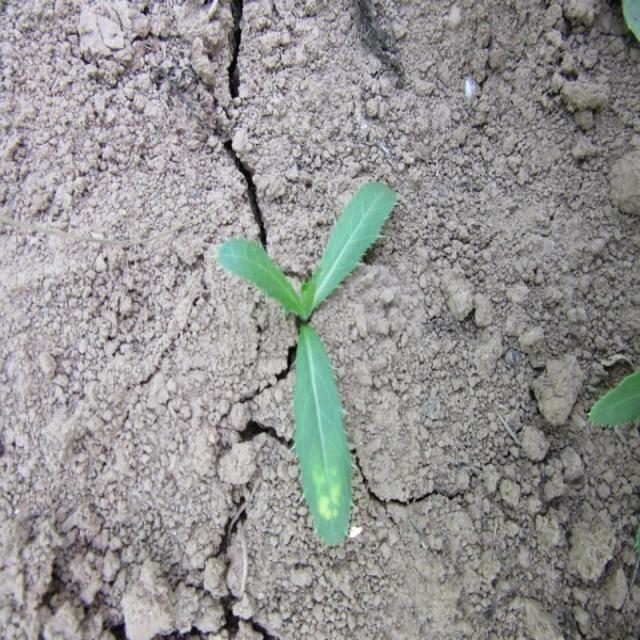field_thistle: (215, 183, 418, 544)
